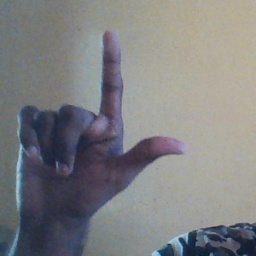L: (13, 29, 190, 216)
